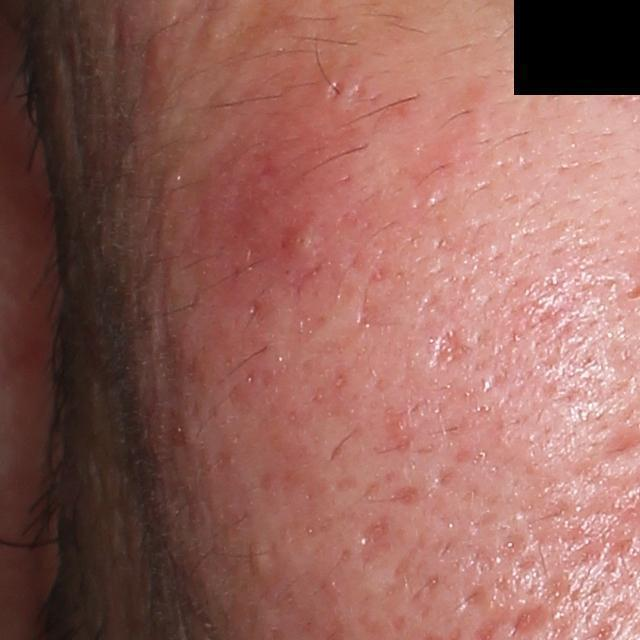atrophic_scar: (360, 515, 409, 572), (427, 322, 473, 371), (391, 483, 426, 508)
